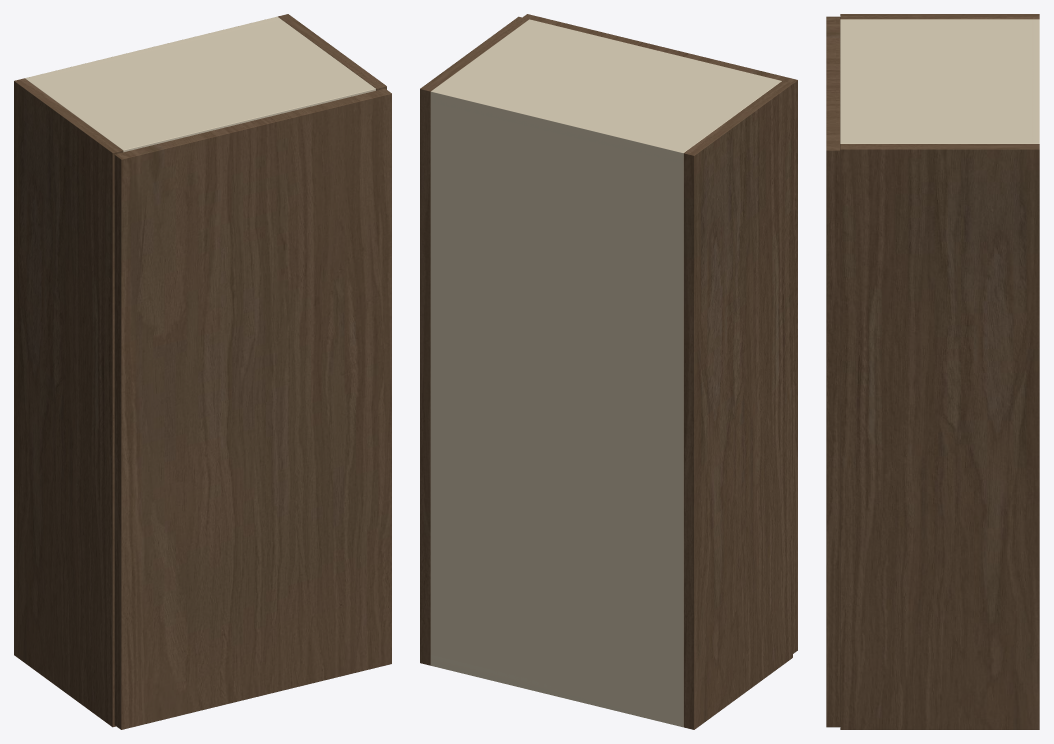
Rendered from oppein-ply-mso-w1836.glb.
The picture shows the model from 3 angles, left to right: view 1: azimuth 30°, elevation 25°; view 2: azimuth 150°, elevation 25°; view 3: azimuth 270°, elevation 25°; orthographic projection.
Parts seen in each view (by area): view 1: Door, Cabinet side, Cabinet top, Cabinet side.001, Cabinet back; view 2: Cabinet back, Cabinet side, Cabinet top, Cabinet side.001, Door, Cabinet bottom; view 3: Cabinet side.001, Cabinet top, Door, Cabinet side, Cabinet back.
Part boxes in pixels (bbox=[...]): Door: bbox=[114, 88, 391, 729]; Cabinet side: bbox=[14, 78, 123, 727]; Cabinet top: bbox=[26, 19, 375, 152]; Cabinet side.001: bbox=[278, 14, 386, 90]; Cabinet back: bbox=[25, 16, 280, 80]; Cabinet back: bbox=[430, 88, 686, 727]; Cabinet side: bbox=[683, 81, 792, 729]; Cabinet top: bbox=[430, 19, 781, 163]; Cabinet side.001: bbox=[420, 16, 528, 665]; Door: bbox=[522, 14, 797, 653]; Cabinet bottom: bbox=[430, 655, 683, 726]; Cabinet side.001: bbox=[840, 144, 1039, 729]; Cabinet top: bbox=[840, 19, 1039, 143]; Door: bbox=[826, 16, 840, 727]; Cabinet side: bbox=[840, 14, 1039, 19]; Cabinet back: bbox=[1031, 19, 1039, 143].
Bounding box in the file's own units: 0.4572 × 0.9144 × 0.3048.
Materials: 2 (1 with a texture image).
